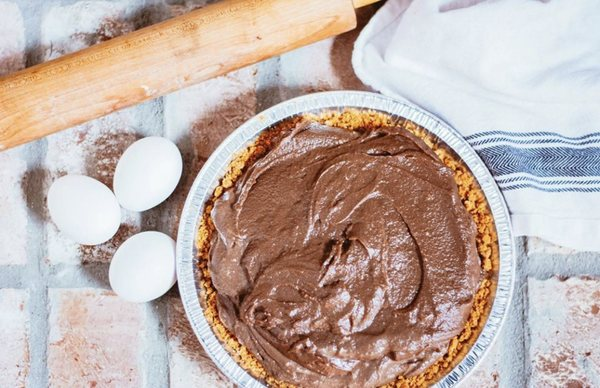sandwich: (0, 0, 358, 169)
